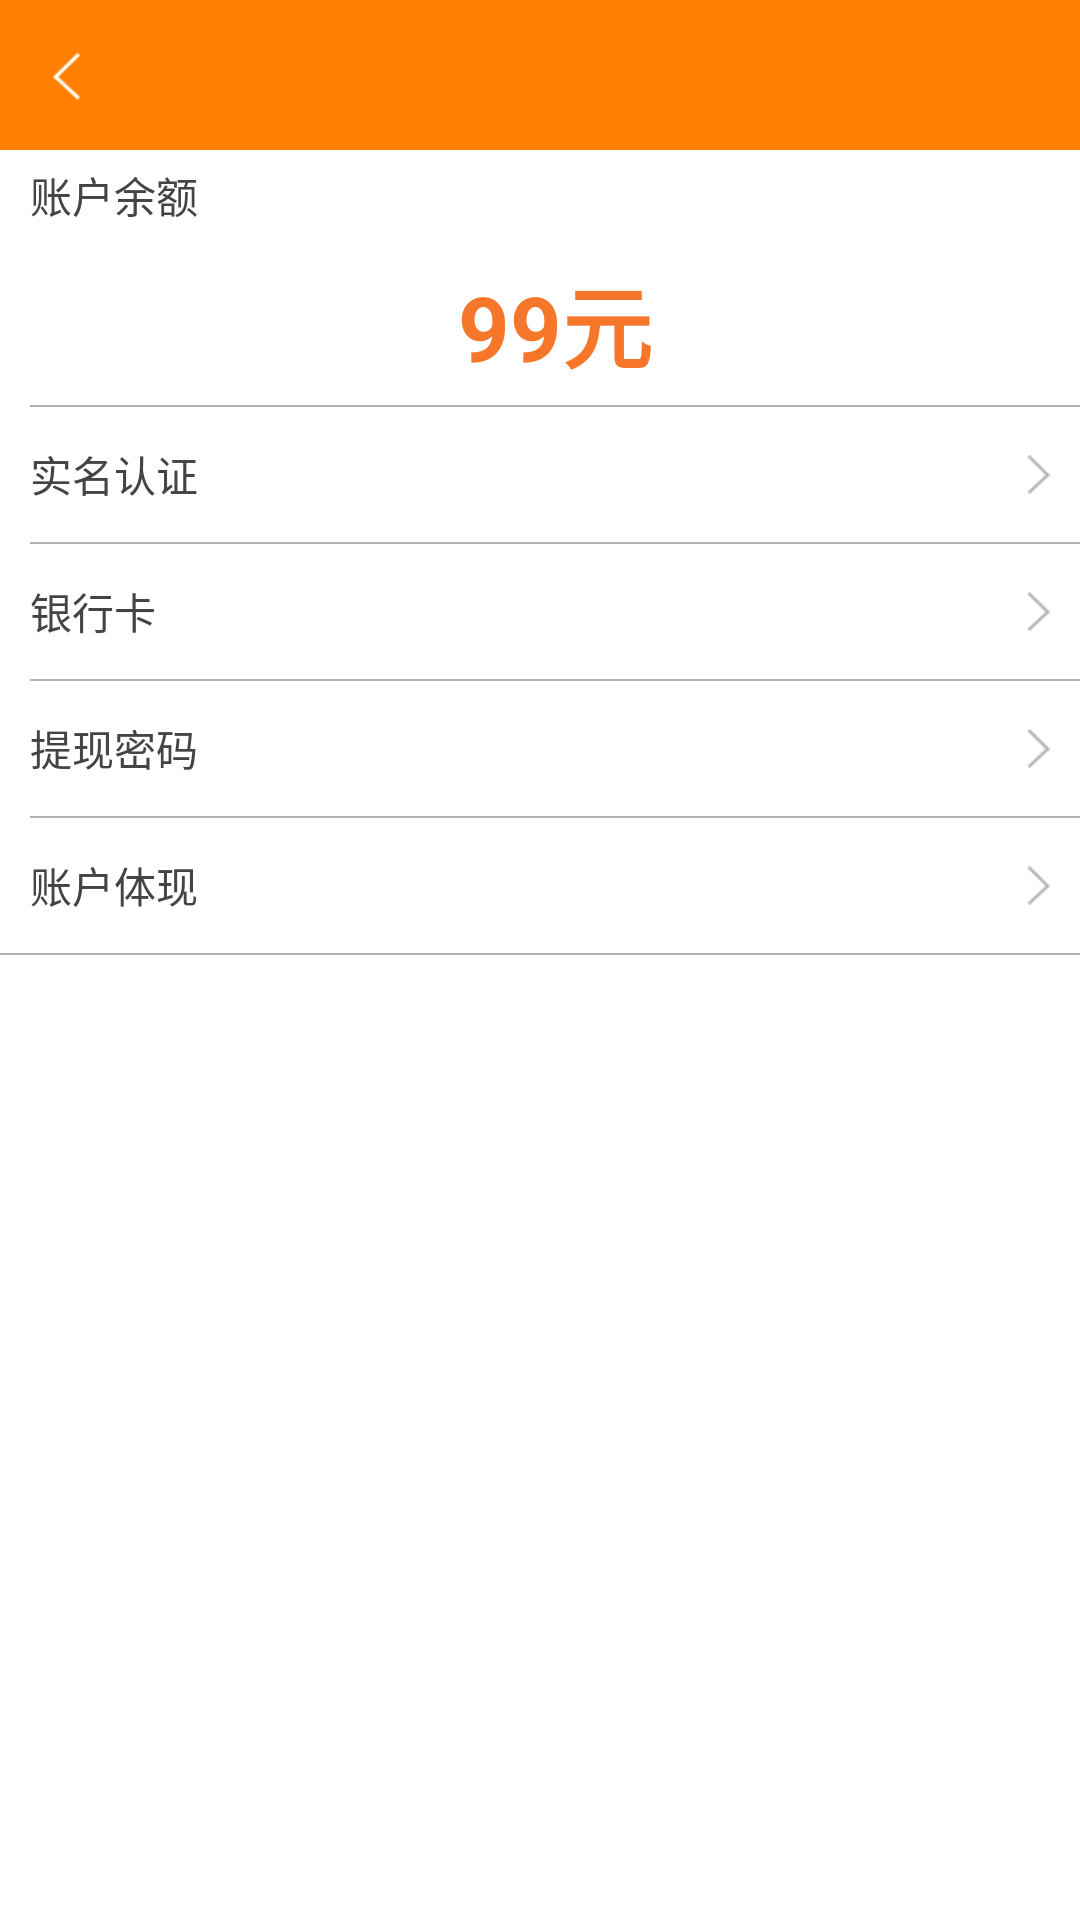

Named icons in this screenshot (1080 x 1920) and their bounding boxes, (x1, y1, x2, y2):
title back: (53, 52, 81, 100)
